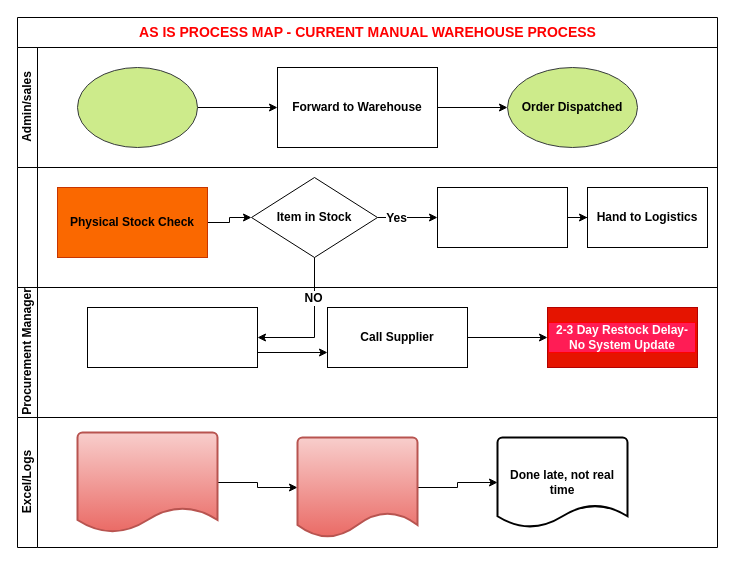
The diagram is 735 pixels wide and 565 high, and some of its shapes have lost their labels. Here are the shapes that lost their labels. From the top down, the box of each, then its label:
(76, 66, 198, 148): Order Received via Email/Phone
(16, 166, 718, 288): Warehouse Staff
(436, 186, 568, 248): Pick & Pack Item
(86, 306, 258, 368): Manually call Procurement Manager
(76, 431, 218, 533): Record in Manual Ledger
(296, 436, 418, 538): Update Excel (End of Day)
